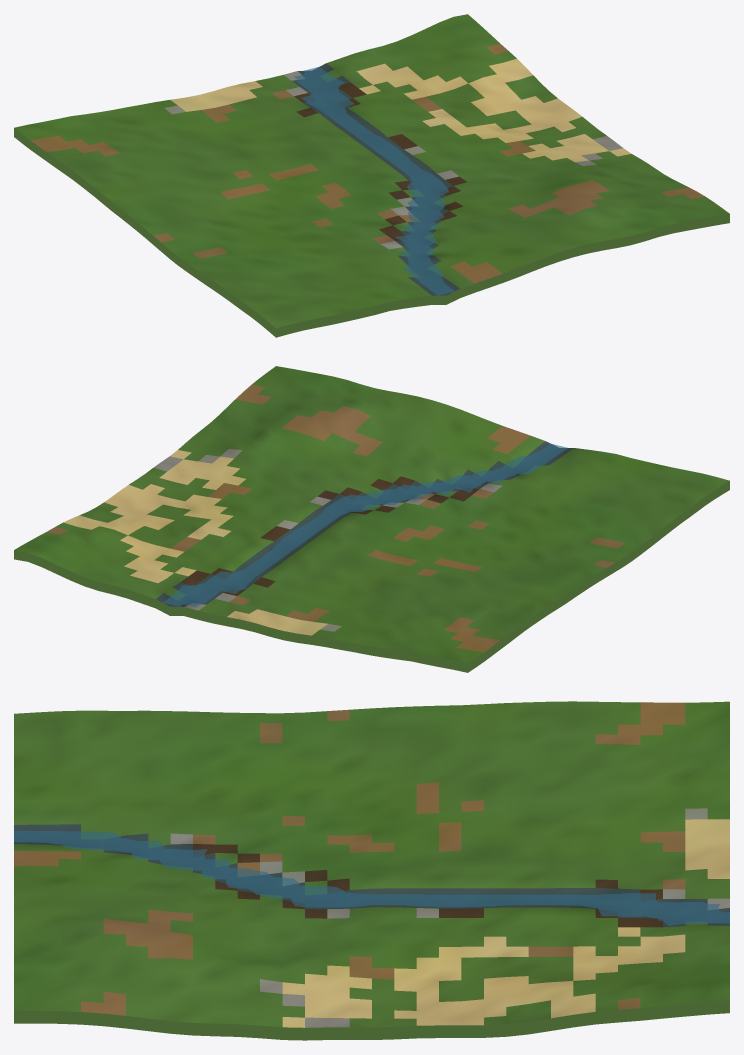
Rendered from chunk_4_6_lod1.glb.
3 views of the same model, one above another, from view 1: azimuth 30°, elevation 25°; view 2: azimuth 150°, elevation 25°; view 3: azimuth 270°, elevation 25° (orthographic). The views are drawn at different scales.
Parts seen in each view (by area): view 1: Surface_Grass, Surface_Sand, Surface_Water, Skirt, Surface_Dirt, Water, Surface_Mud, Surface_Gravel; view 2: Surface_Grass, Surface_Sand, Surface_Dirt, Surface_Water, Skirt, Water, Surface_Mud, Surface_Gravel; view 3: Surface_Grass, Surface_Sand, Surface_Water, Surface_Dirt, Water, Skirt, Surface_Mud, Surface_Gravel.
Boxes of the visible parts, bbox=[...] form: Surface_Grass: bbox=[14, 14, 729, 328]; Surface_Sand: bbox=[170, 58, 631, 162]; Surface_Water: bbox=[292, 63, 459, 295]; Skirt: bbox=[14, 128, 729, 337]; Surface_Dirt: bbox=[31, 44, 704, 283]; Water: bbox=[294, 67, 454, 295]; Surface_Mud: bbox=[294, 82, 466, 240]; Surface_Gravel: bbox=[164, 71, 622, 249]; Surface_Grass: bbox=[14, 366, 729, 663]; Surface_Sand: bbox=[63, 450, 327, 635]; Surface_Dirt: bbox=[47, 384, 625, 652]; Surface_Water: bbox=[156, 441, 573, 606]; Skirt: bbox=[14, 481, 729, 672]; Water: bbox=[163, 444, 567, 606]; Surface_Mud: bbox=[180, 476, 479, 595]; Surface_Gravel: bbox=[153, 449, 501, 631]; Surface_Grass: bbox=[14, 701, 729, 1027]; Surface_Sand: bbox=[282, 819, 729, 1027]; Surface_Water: bbox=[14, 824, 729, 927]; Surface_Dirt: bbox=[14, 702, 685, 1015]; Water: bbox=[14, 830, 729, 925]; Skirt: bbox=[14, 1000, 729, 1040]; Surface_Mud: bbox=[193, 844, 662, 927]; Surface_Gravel: bbox=[170, 808, 729, 1027].
Size of the model in its own units: 256 by 16.53 by 256.
